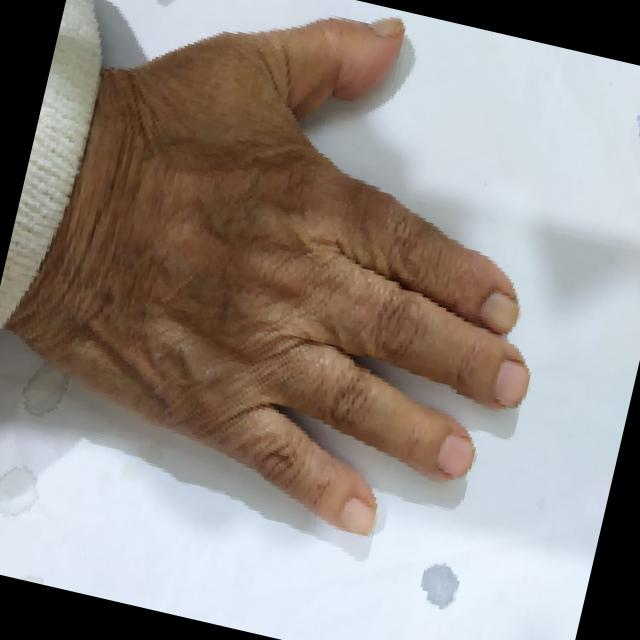Nail: (493, 359, 529, 406), (436, 434, 474, 476), (482, 292, 519, 333), (338, 497, 376, 534), (368, 18, 403, 37)
